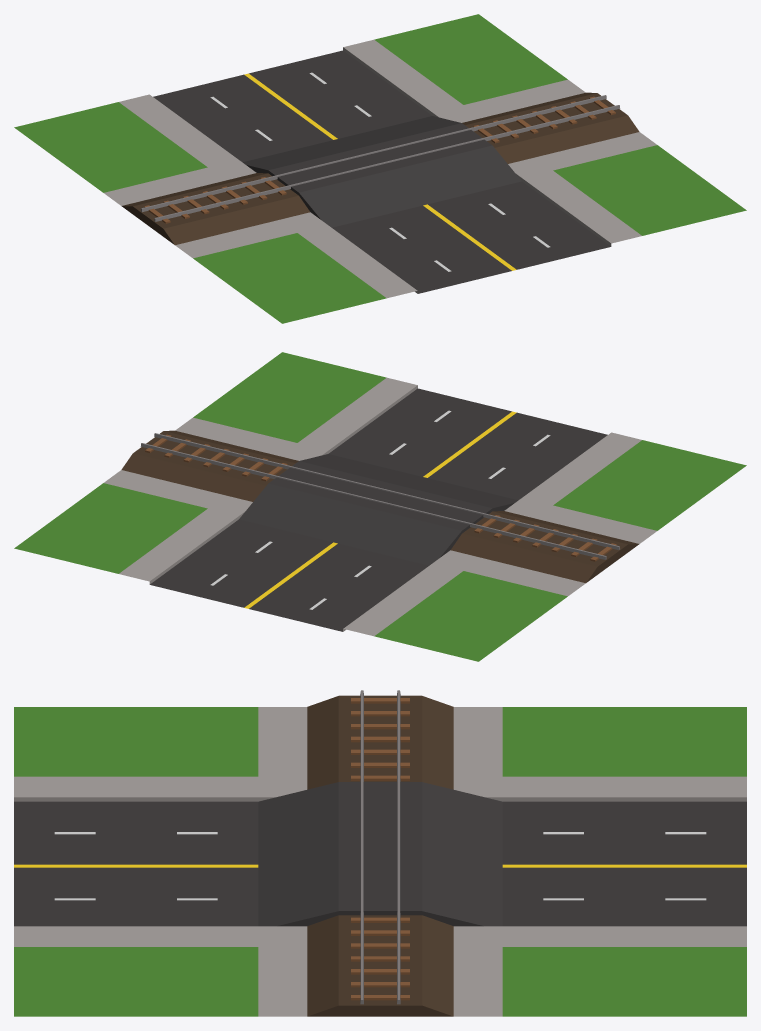
File: tiles-nb_tile-rail-mainroad-crossing-nb.fbx
3 renders of one model, top to bottom at view 1: azimuth 30°, elevation 25°; view 2: azimuth 150°, elevation 25°; view 3: azimuth 270°, elevation 25°, orthographic. The views are drawn at different scales.
Parts seen in each view (by area): view 1: tiles_nb_tile_rail_mainroad_crossing_nb; view 2: tiles_nb_tile_rail_mainroad_crossing_nb; view 3: tiles_nb_tile_rail_mainroad_crossing_nb.
Boxes of the visible parts, x1,y1,x2,y2 form: tiles_nb_tile_rail_mainroad_crossing_nb: (14,14,746,323); tiles_nb_tile_rail_mainroad_crossing_nb: (14,352,746,661); tiles_nb_tile_rail_mainroad_crossing_nb: (14,690,746,1016).
Size of the model in its own units: 200 by 6.31 by 200.
